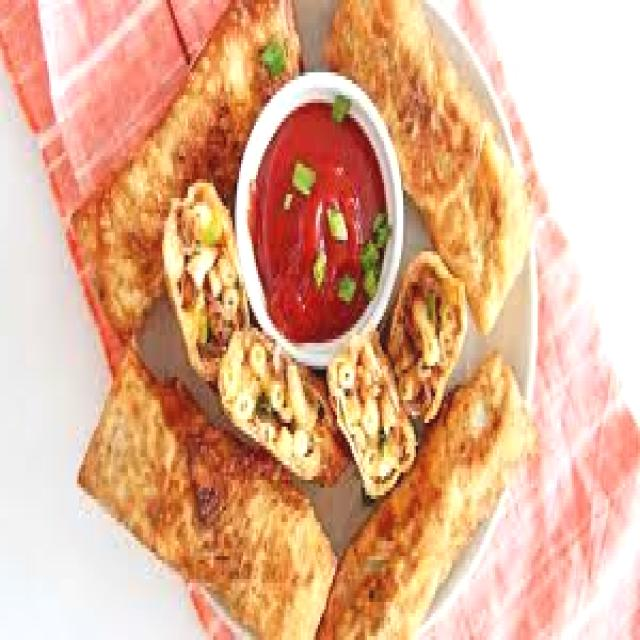wet: (273, 378, 528, 620), (74, 184, 224, 516), (401, 179, 531, 373)
